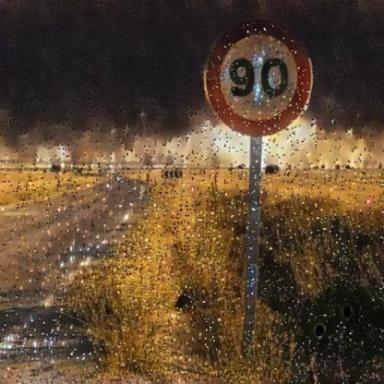Speed_limit_90: (207, 26, 309, 132)
